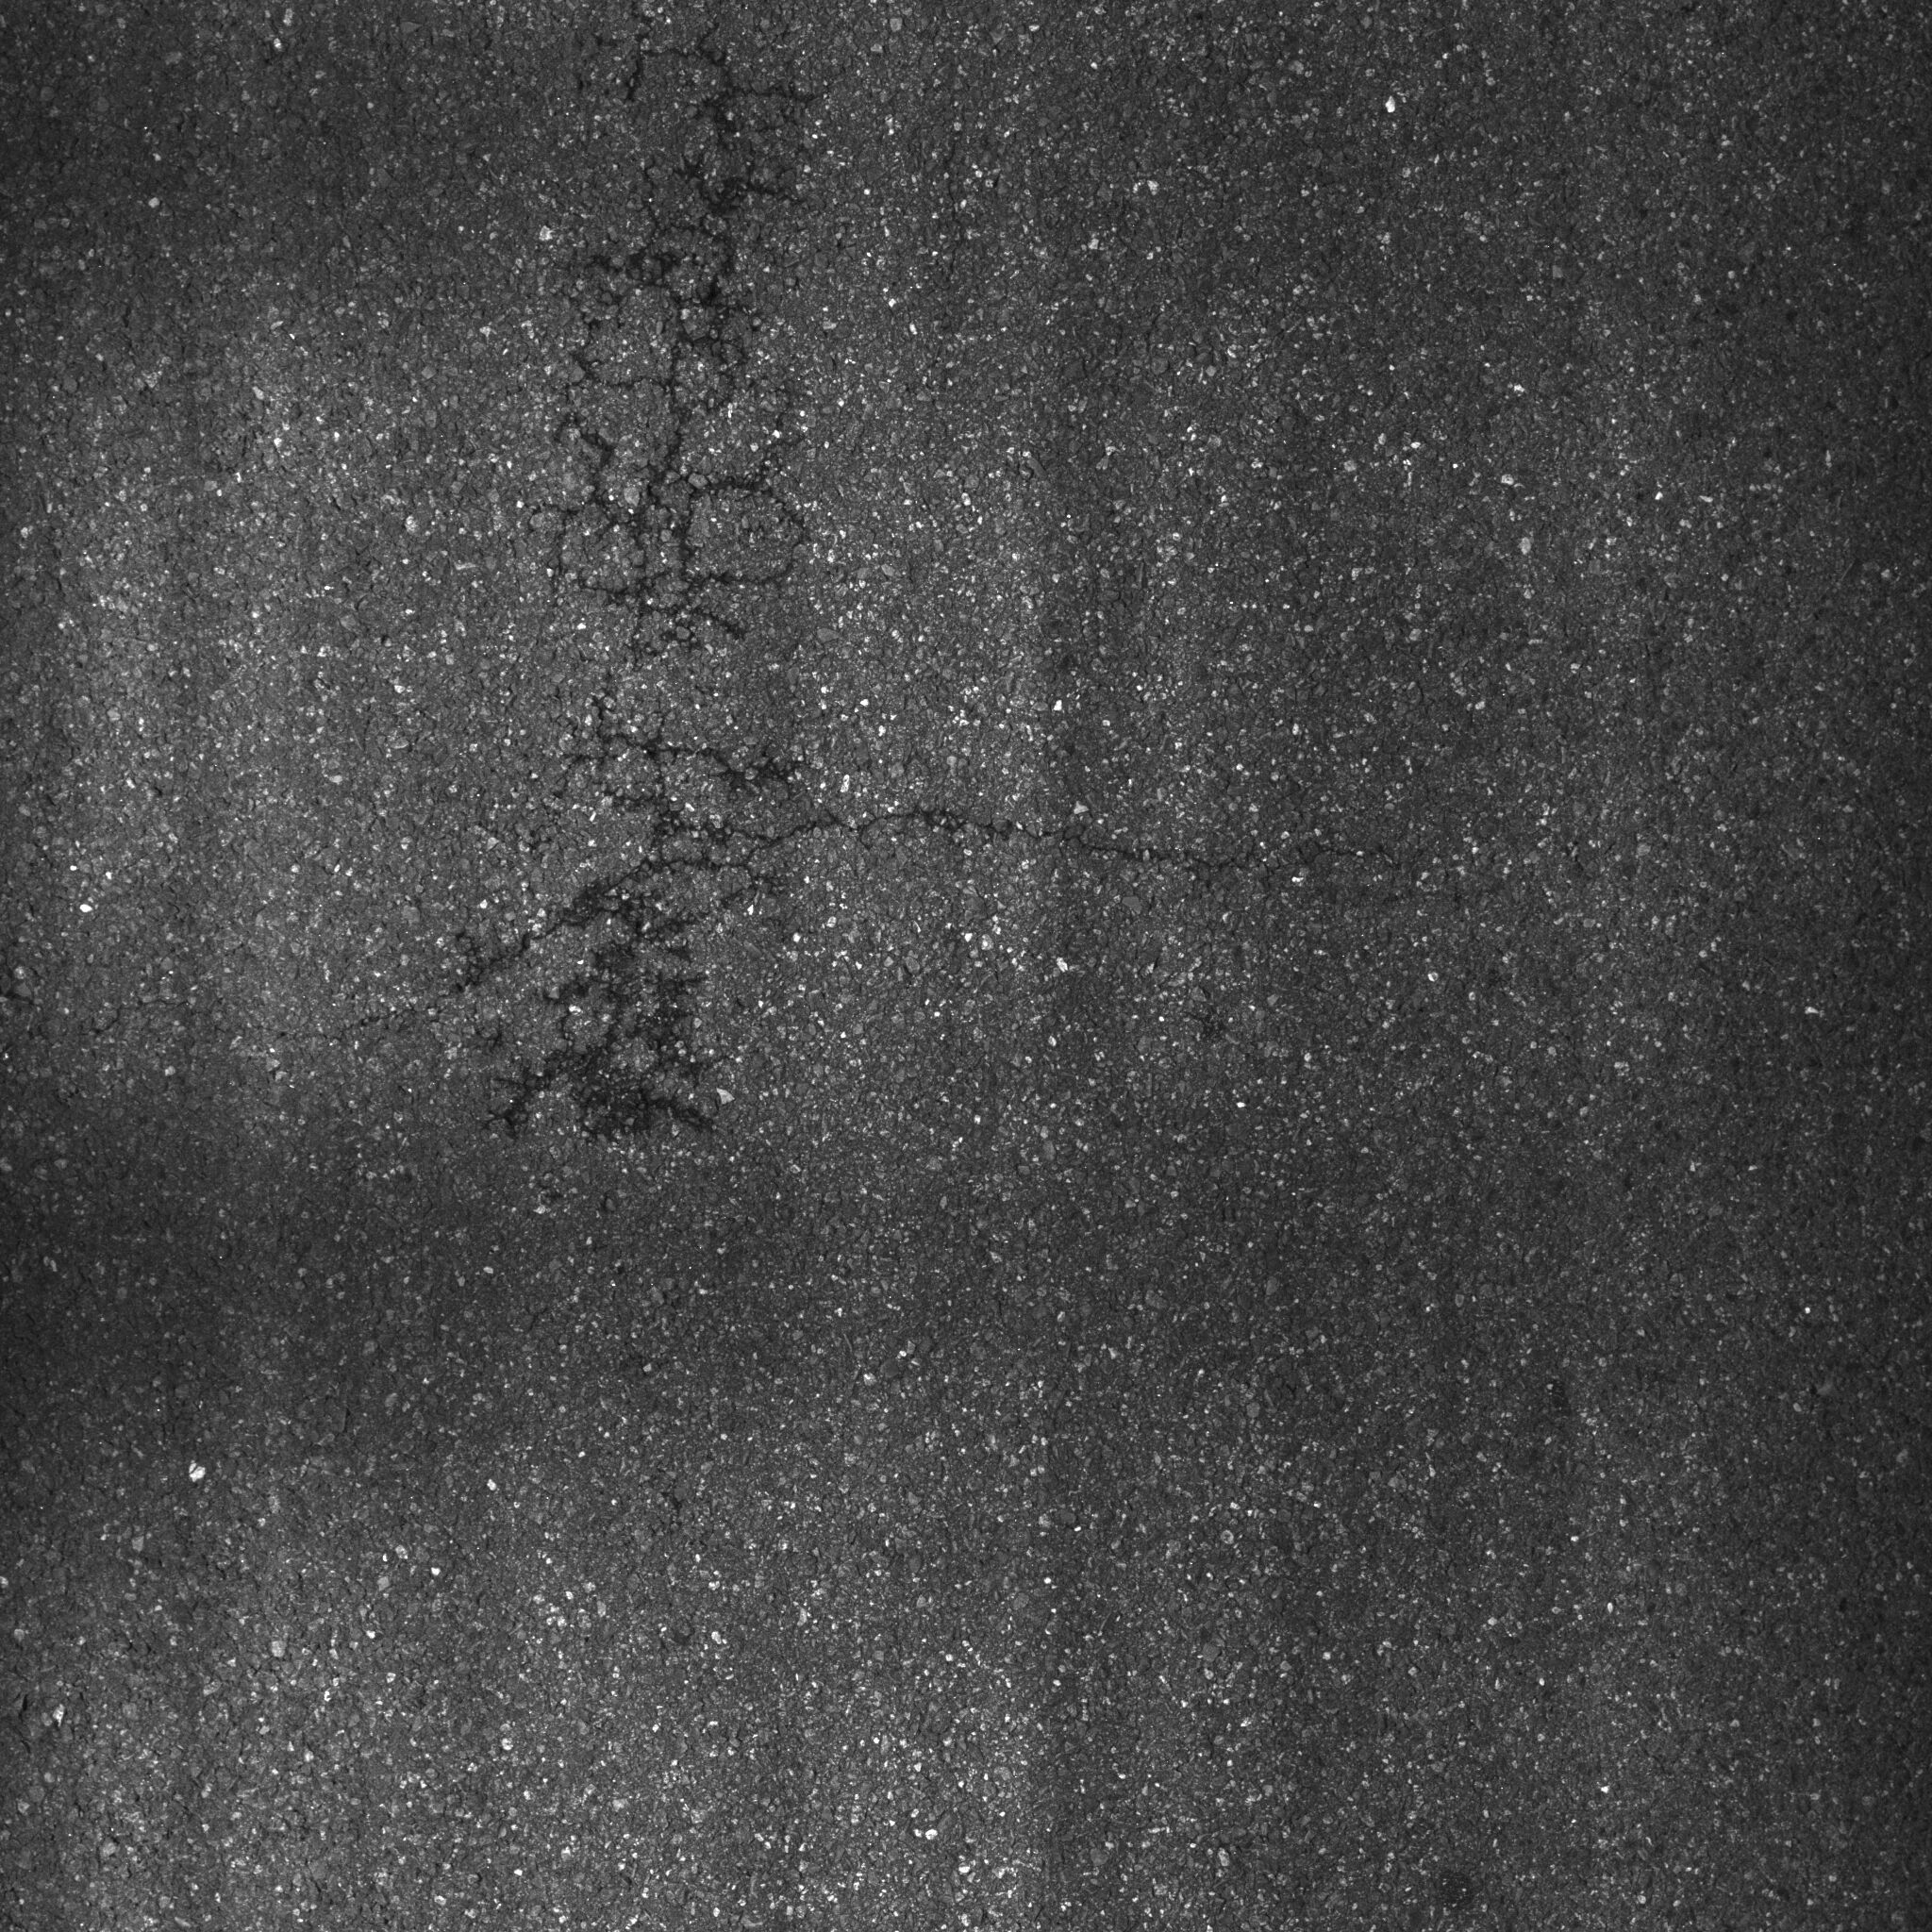alligator: (400, 34, 1553, 1201)
